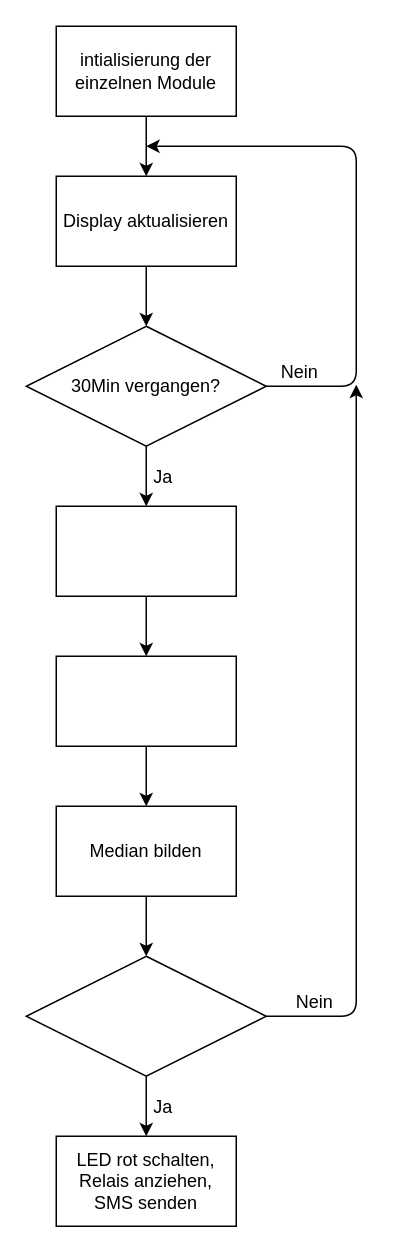
Image size: 395x1253. Some labels were removed from this diagram. Here are the shapes that lost their labels. From the top down, the centre of each, then its label:
At (x=145, y=550): "Sensor-Daten holen".
At (x=145, y=700): "Daten sortieren".
At (x=145, y=1015): "Ausreisser vorhanden?".
